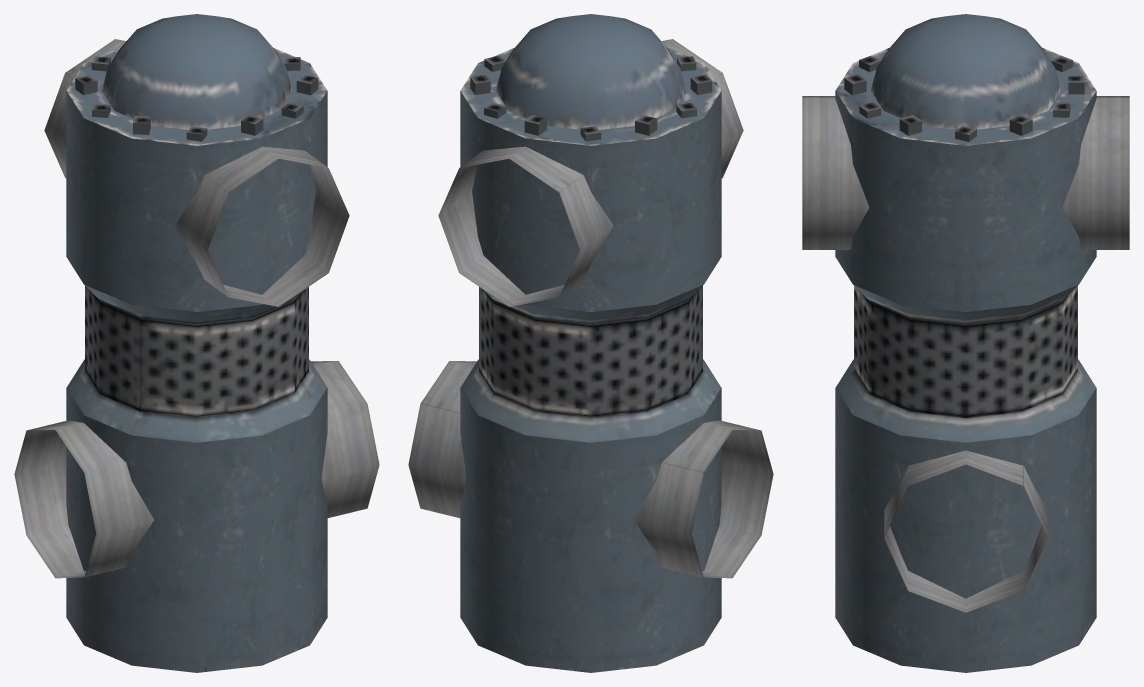
Rendered from PipeVerticalBalancer2h.fbx.
The picture shows the model from 3 angles, left to right: view 1: azimuth 30°, elevation 25°; view 2: azimuth 150°, elevation 25°; view 3: azimuth 270°, elevation 25°; orthographic projection.
Visible parts, largest first — view 1: pipe_balancer_2h; view 2: pipe_balancer_2h; view 3: pipe_balancer_2h.
Part boxes in pixels (x1=…): pipe_balancer_2h: x1=14, y1=14, x2=379, y2=672; pipe_balancer_2h: x1=408, y1=14, x2=773, y2=672; pipe_balancer_2h: x1=802, y1=14, x2=1129, y2=672.
Size of the model in its own units: 0.0508 by 0.0508 by 0.1016.
1 material, 1 textured.
